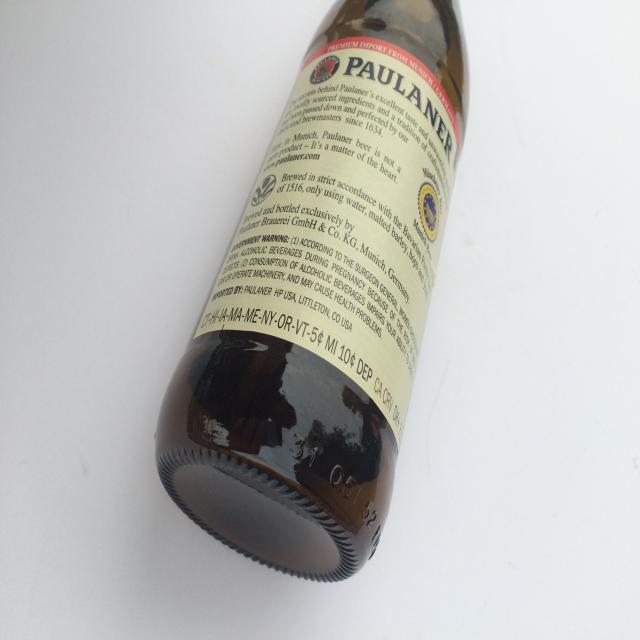glass: (154, 2, 471, 586)
